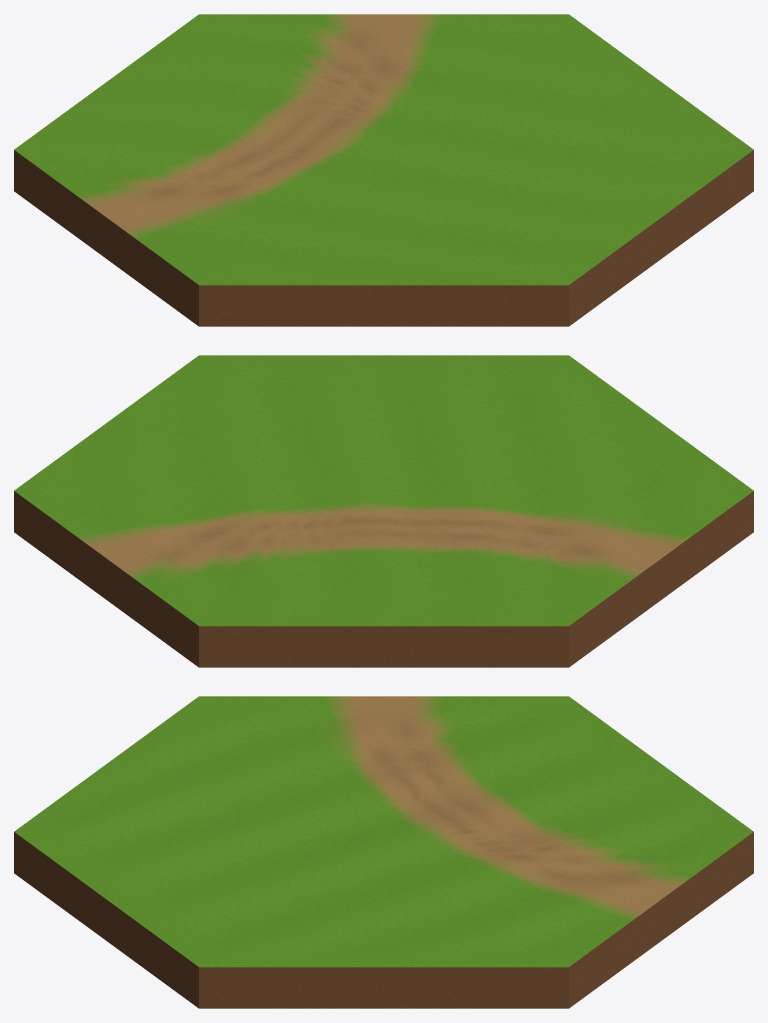
The model's file is SM_CaminoNatural_Curva_LOD0.fbx.
The picture shows the model from 3 angles, top to bottom: view 1: azimuth 30°, elevation 25°; view 2: azimuth 150°, elevation 25°; view 3: azimuth 270°, elevation 25°; orthographic projection.
Visible parts, largest first — view 1: SM_CaminoNatural_Curva_LOD0; view 2: SM_CaminoNatural_Curva_LOD0; view 3: SM_CaminoNatural_Curva_LOD0.
Part boxes in pixels (x1,y1,x2,y2): SM_CaminoNatural_Curva_LOD0: (14,14,753,326); SM_CaminoNatural_Curva_LOD0: (14,355,753,667); SM_CaminoNatural_Curva_LOD0: (14,696,753,1008).
Bounding box in the file's own units: 1.68 × 0.123 × 1.94.
1 material, 1 textured.
